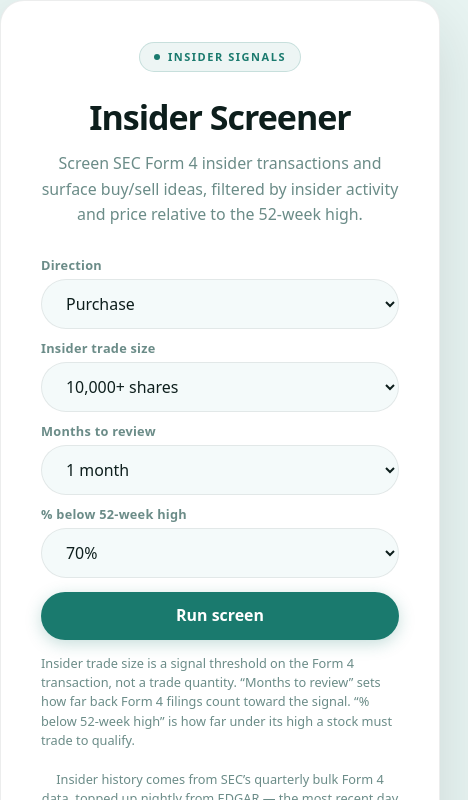
InsiderScreener copy › names the review window on a zero-result screen too
What coordinates should you click on to do the following:
click the button "Run screen"
I would click on:
 (220, 616)
Its box is x1=41 y1=592 x2=399 y2=640.
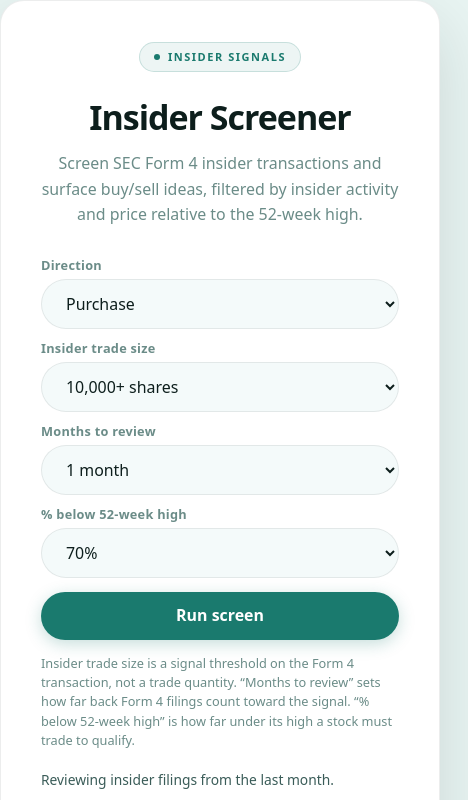
Expected: the text with id "lblScreenerWindow" reads "Reviewing insider filings from the last month.", x1=41 y1=770 x2=334 y2=789
